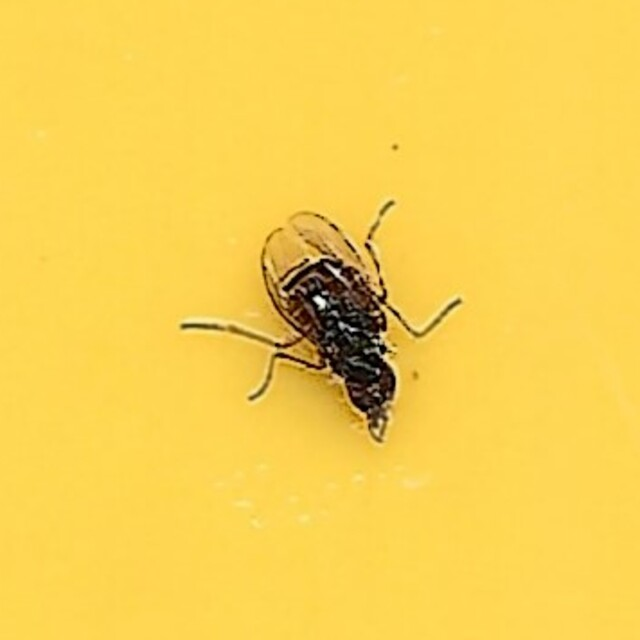Brachycera: (180, 192, 460, 448)
